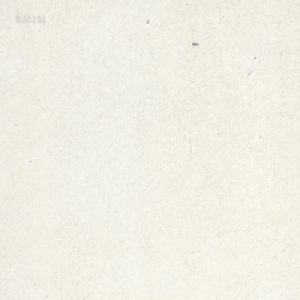Nail: (192, 40, 198, 45)
